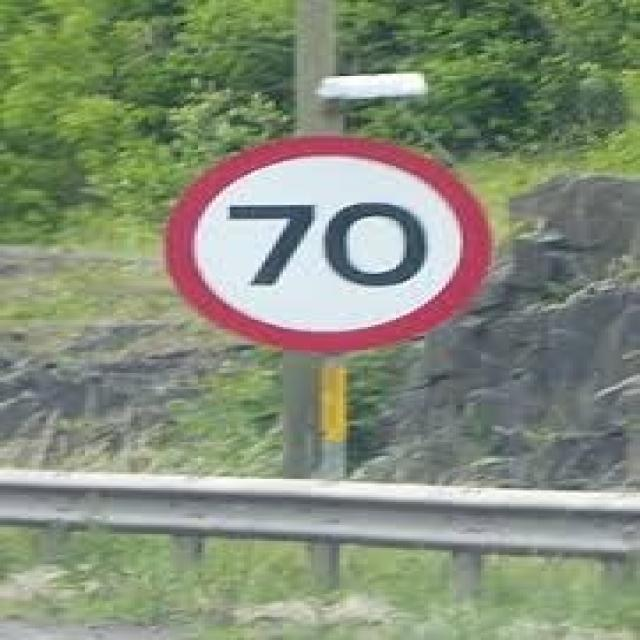speed_limit_70: (140, 129, 505, 352)
